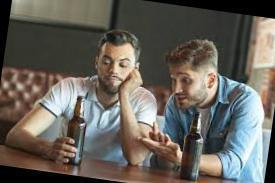Drunk: (169, 64, 204, 107), (100, 43, 131, 90)
